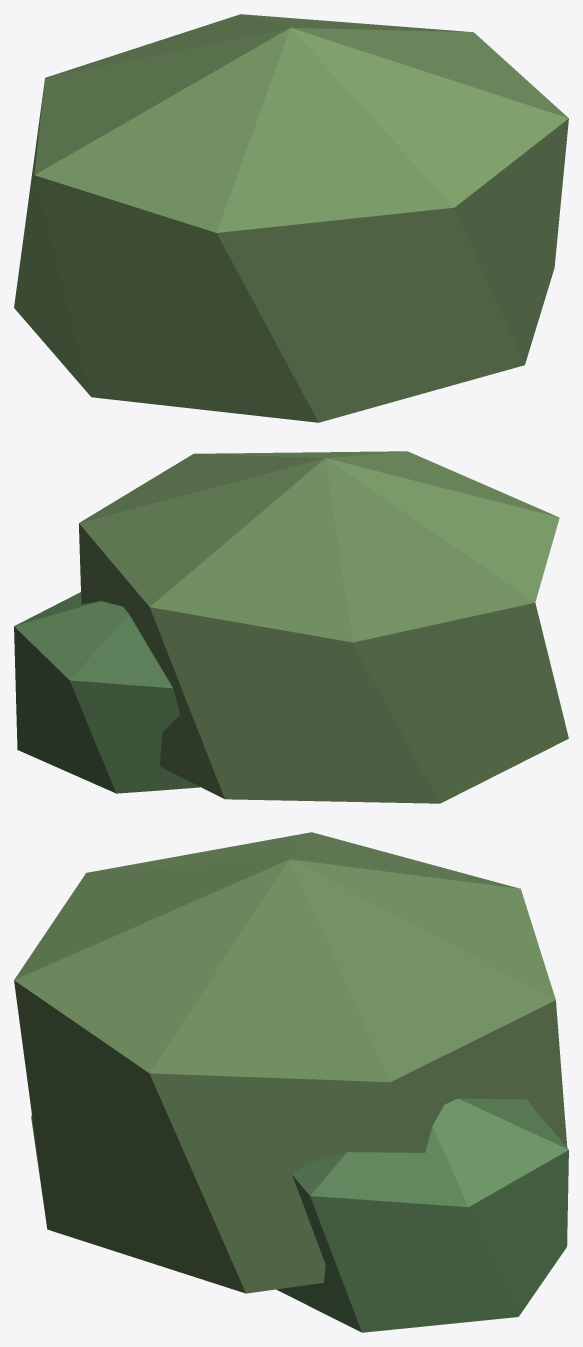
File: SM_Kit_arbusto.fbx
The picture shows the model from 3 angles, top to bottom: view 1: azimuth 30°, elevation 25°; view 2: azimuth 150°, elevation 25°; view 3: azimuth 270°, elevation 25°; orthographic projection. The views are drawn at different scales.
Visible parts, largest first — view 1: SM_Kit_arbusto; view 2: SM_Kit_arbusto; view 3: SM_Kit_arbusto.
Boxes of the visible parts, x1,y1,x2,y2 form: SM_Kit_arbusto: (14,14,568,422); SM_Kit_arbusto: (14,451,568,803); SM_Kit_arbusto: (14,832,568,1332).
Size of what is drawn, in the model's own units: 159 by 112 by 138.
